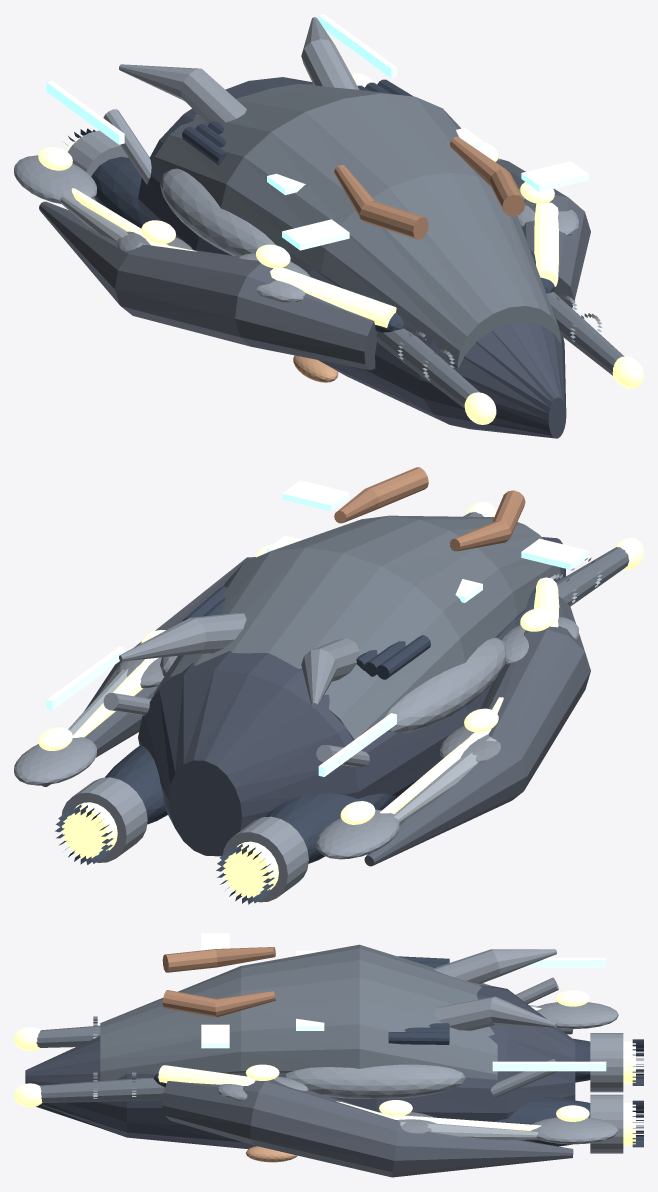
File: npc_streuner.glb
3 views of the same model, one above another, from view 1: azimuth 30°, elevation 25°; view 2: azimuth 150°, elevation 25°; view 3: azimuth 270°, elevation 25° (orthographic). The views are drawn at different scales.
Parts seen in each view (by area): view 1: upper_armor_scar, armored_scythe_-1, keel_pressure_hull, V59 trim baked, heavy_shield_pad_-1, predator_dorsal_fang_-1, energy_etched_rail_-1, armored_scythe_1, long_plasma_cannon_-1, engine_armor_-1, pirate_crest_-1, scythe_plate_-1_2 (+16 smaller); view 2: upper_armor_scar, keel_pressure_hull, armored_scythe_-1, V59 trim baked, heavy_shield_pad_-1, predator_dorsal_fang_1, exhaust_coil_1, exhaust_coil_-1, engine_armor_-1, armored_scythe_1, scythe_plate_1_2, scythe_plate_-1_2 (+22 smaller); view 3: upper_armor_scar, armored_scythe_1, keel_pressure_hull, heavy_shield_pad_1, V59 trim baked, predator_dorsal_fang_1, long_plasma_cannon_1, predator_dorsal_fang_-1, energy_etched_rail_1, pirate_crest_-1, pirate_crest_1, exhaust_coil_-1 (+23 smaller).
Part boxes in pixels (left/top/right/bottom): upper_armor_scar: left=153, top=84, right=561, bottom=368; armored_scythe_-1: left=39, top=201, right=376, bottom=370; keel_pressure_hull: left=138, top=77, right=566, bottom=438; V59 trim baked: left=46, top=14, right=588, bottom=250; heavy_shield_pad_-1: left=160, top=168, right=275, bottom=256; predator_dorsal_fang_-1: left=119, top=64, right=246, bottom=124; energy_etched_rail_-1: left=71, top=188, right=396, bottom=327; armored_scythe_1: left=495, top=159, right=590, bottom=308; long_plasma_cannon_-1: left=376, top=328, right=479, bottom=408; engine_armor_-1: left=91, top=157, right=149, bottom=228; pirate_crest_-1: left=334, top=165, right=428, bottom=239; scythe_plate_-1_2: left=14, top=155, right=96, bottom=203; upper_armor_scar: left=153, top=515, right=560, bottom=740; keel_pressure_hull: left=138, top=537, right=565, bottom=856; armored_scythe_-1: left=364, top=596, right=590, bottom=866; V59 trim baked: left=46, top=480, right=588, bottom=776; heavy_shield_pad_-1: left=385, top=637, right=506, bottom=733; predator_dorsal_fang_1: left=119, top=613, right=246, bottom=661; exhaust_coil_1: left=61, top=777, right=147, bottom=862; exhaust_coil_-1: left=223, top=816, right=308, bottom=902; engine_armor_-1: left=266, top=793, right=396, bottom=863; armored_scythe_1: left=41, top=557, right=255, bottom=786; scythe_plate_1_2: left=14, top=737, right=96, bottom=785; scythe_plate_-1_2: left=316, top=809, right=399, bottom=859; upper_armor_scar: left=100, top=944, right=497, bottom=1080; armored_scythe_1: left=162, top=1079, right=573, bottom=1177; keel_pressure_hull: left=25, top=985, right=575, bottom=1149; heavy_shield_pad_1: left=284, top=1064, right=465, bottom=1098; V59 trim baked: left=201, top=933, right=606, bottom=1071; predator_dorsal_fang_1: left=433, top=996, right=556, bottom=1030; long_plasma_cannon_1: left=39, top=1078, right=164, bottom=1102; predator_dorsal_fang_-1: left=433, top=949, right=556, bottom=983; energy_etched_rail_1: left=158, top=1065, right=541, bottom=1130; pirate_crest_-1: left=162, top=947, right=275, bottom=972; pirate_crest_1: left=162, top=990, right=275, bottom=1017; exhaust_coil_-1: left=590, top=1033, right=623, bottom=1092.
Bounding box in the file's own units: 1.8 × 0.9744 × 3.06.
